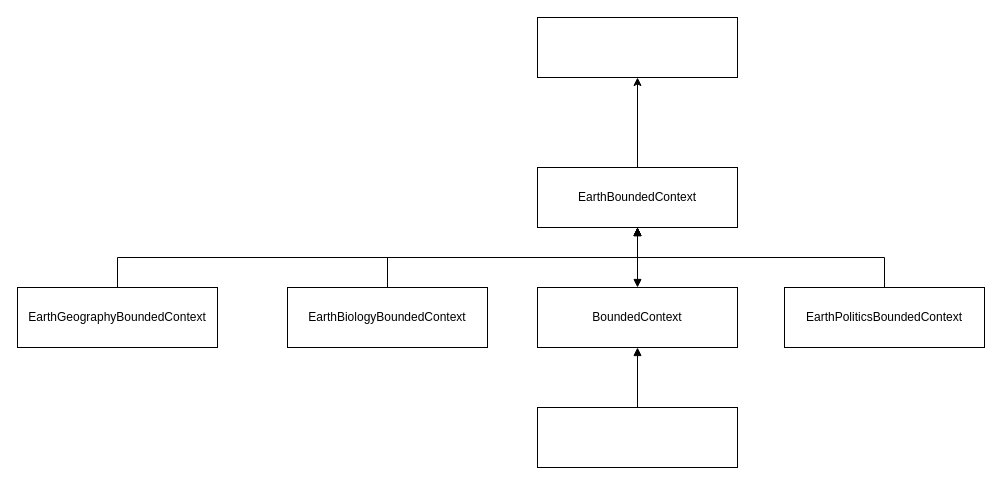
Some shapes in this 1002 by 485 pixel diagram are drawn without their labels. Each missing label, with the box of its shape:
IBoundedContext: (536, 16, 738, 78)
SpaceBoundedContext: (536, 406, 738, 468)
